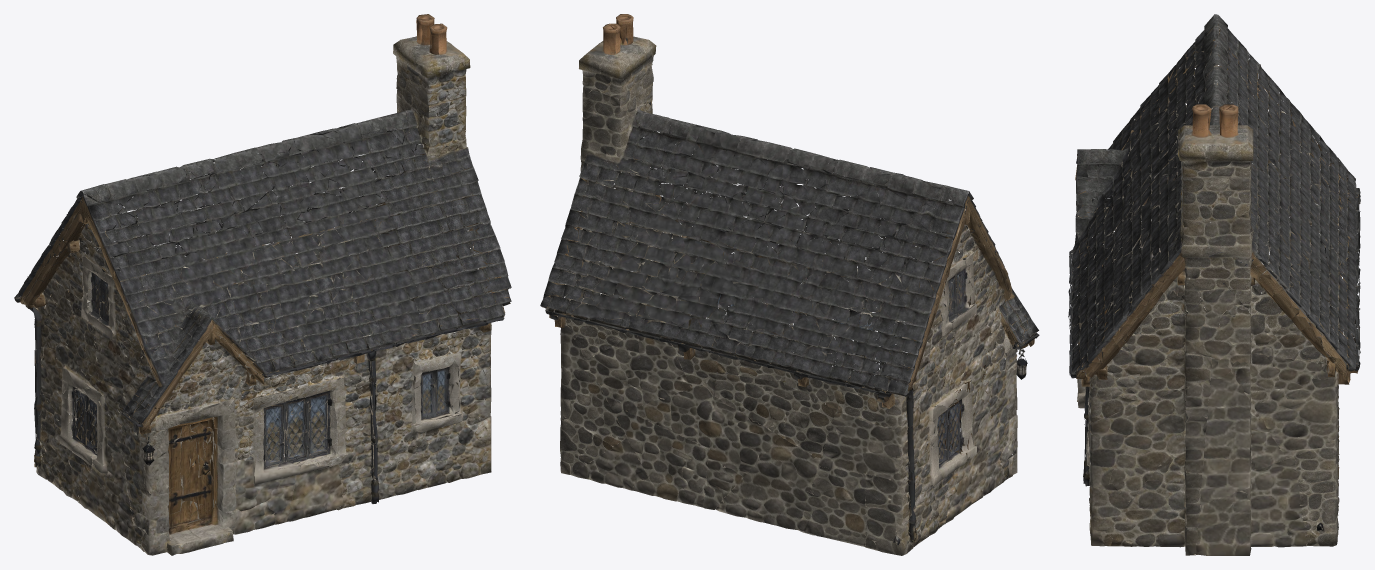
Rendered from kamienny_dom_lupek.glb.
The picture shows the model from 3 angles, left to right: view 1: azimuth 30°, elevation 25°; view 2: azimuth 150°, elevation 25°; view 3: azimuth 270°, elevation 25°; orthographic projection. The views are drawn at different scales.
Visible parts, largest first — view 1: Mesh_0; view 2: Mesh_0; view 3: Mesh_0.
Part boxes in pixels (bbox=[...]): Mesh_0: bbox=[14, 14, 511, 555]; Mesh_0: bbox=[540, 14, 1039, 555]; Mesh_0: bbox=[1068, 14, 1360, 555].
Size of the model in its own units: 1.85 by 1.91 by 1.15.
Materials: 1 (1 with a texture image).
